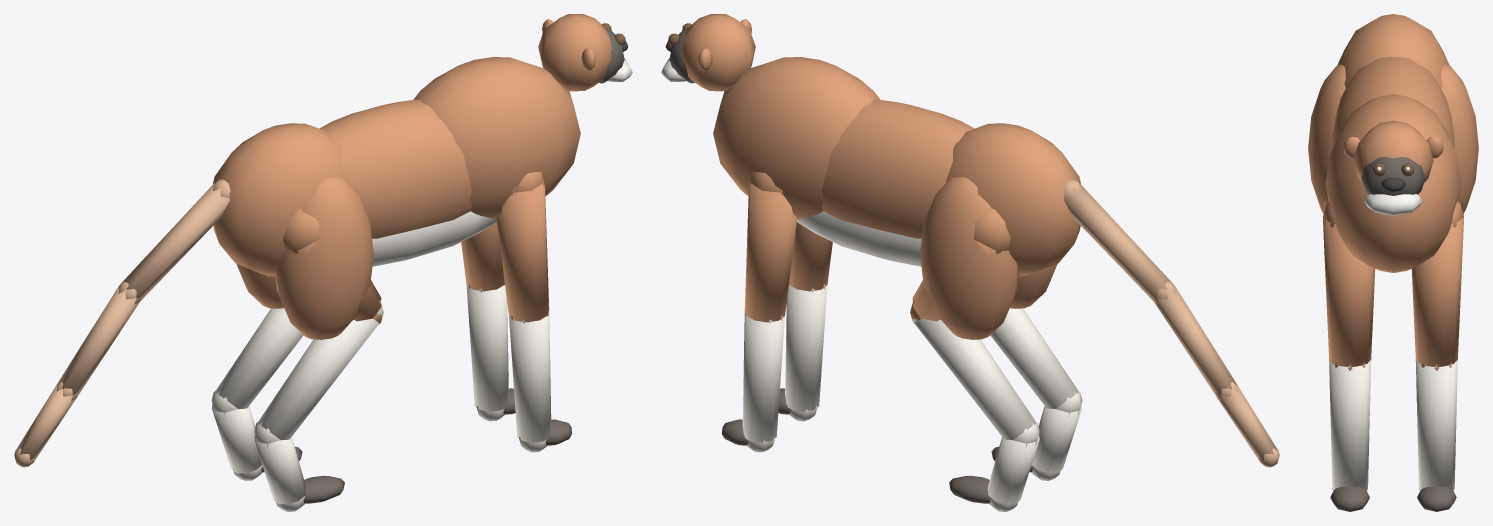
The model's file is patas-monkey.glb.
3 renders of one model, left to right at view 1: azimuth 30°, elevation 25°; view 2: azimuth 150°, elevation 25°; view 3: azimuth 270°, elevation 25°, orthographic. The views are drawn at different scales.
Visible parts, largest first — view 1: e, e.008, e.003, e.040, e.021, e.016, e.030; view 2: e, e.021, e.016, e.040, e.008, e.003, e.030; view 3: e, e.016, e.003, e.030, e.021, e.008.
Part boxes in pixels (bbox=[...]): e: bbox=[213, 57, 580, 276]; e.008: bbox=[254, 177, 383, 511]; e.003: bbox=[496, 171, 571, 452]; e.040: bbox=[14, 179, 230, 467]; e.021: bbox=[211, 264, 303, 480]; e.016: bbox=[461, 222, 515, 421]; e.030: bbox=[538, 14, 632, 91]; e: bbox=[713, 57, 1080, 276]; e.021: bbox=[910, 177, 1039, 511]; e.016: bbox=[722, 171, 797, 452]; e.040: bbox=[1063, 179, 1279, 467]; e.008: bbox=[990, 264, 1082, 480]; e.003: bbox=[778, 222, 832, 421]; e.030: bbox=[661, 14, 755, 91]; e: bbox=[1325, 14, 1461, 272]; e.016: bbox=[1411, 201, 1463, 511]; e.003: bbox=[1323, 201, 1375, 511]; e.030: bbox=[1343, 120, 1443, 215]; e.021: bbox=[1441, 64, 1478, 213]; e.008: bbox=[1308, 64, 1345, 213].
Size of the model in its own units: 1.17 by 0.7334 by 0.276.
